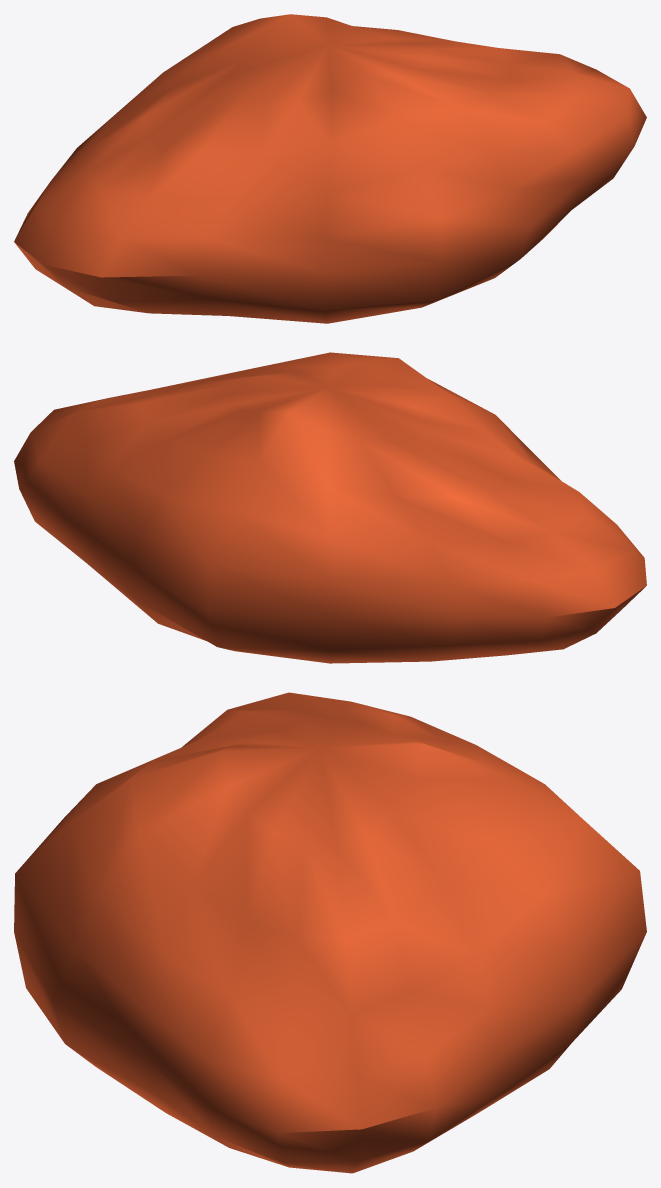
File: cinder_crab_coral.glb
The picture shows the model from 3 angles, top to bottom: view 1: azimuth 30°, elevation 25°; view 2: azimuth 150°, elevation 25°; view 3: azimuth 270°, elevation 25°; orthographic projection. The views are drawn at different scales.
Visible parts, largest first — view 1: cinder_crab_coral; view 2: cinder_crab_coral; view 3: cinder_crab_coral.
Boxes of the visible parts, x1=… form: cinder_crab_coral: x1=14, y1=14, x2=646, y2=323; cinder_crab_coral: x1=14, y1=352, x2=646, y2=663; cinder_crab_coral: x1=14, y1=692, x2=646, y2=1173.
Bounding box in the file's own units: 0.03 × 0.01 × 0.02.
